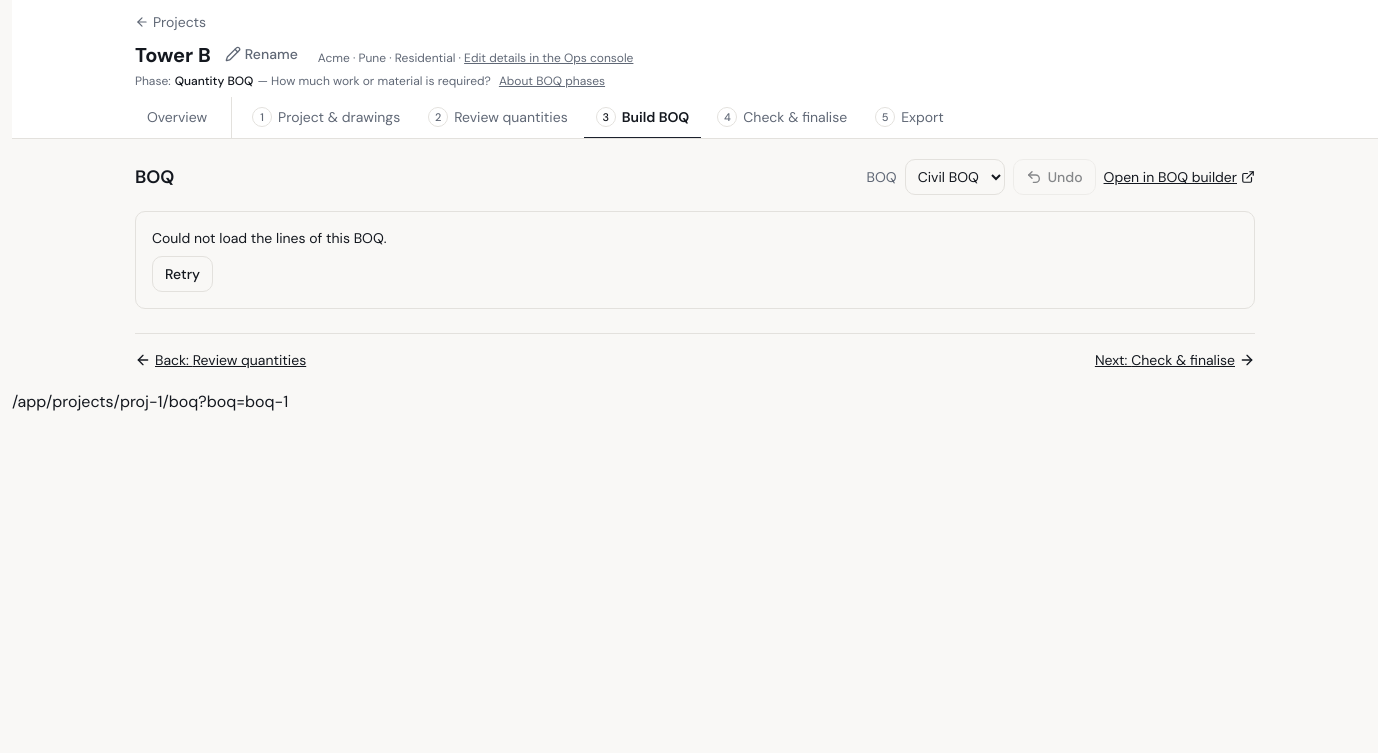
Test case: Journey — a failed read is an error with a way to recover, never a blank or a success › Build BOQ: lines read fails → error with Retry, not an empty BOQ
Check: the message shows "Could not load the lines of this BOQ.", box [152, 229, 387, 247]
Check: the text "This step is done" is not shown
Click the button "Retry" at [182, 274], box [152, 256, 213, 292]
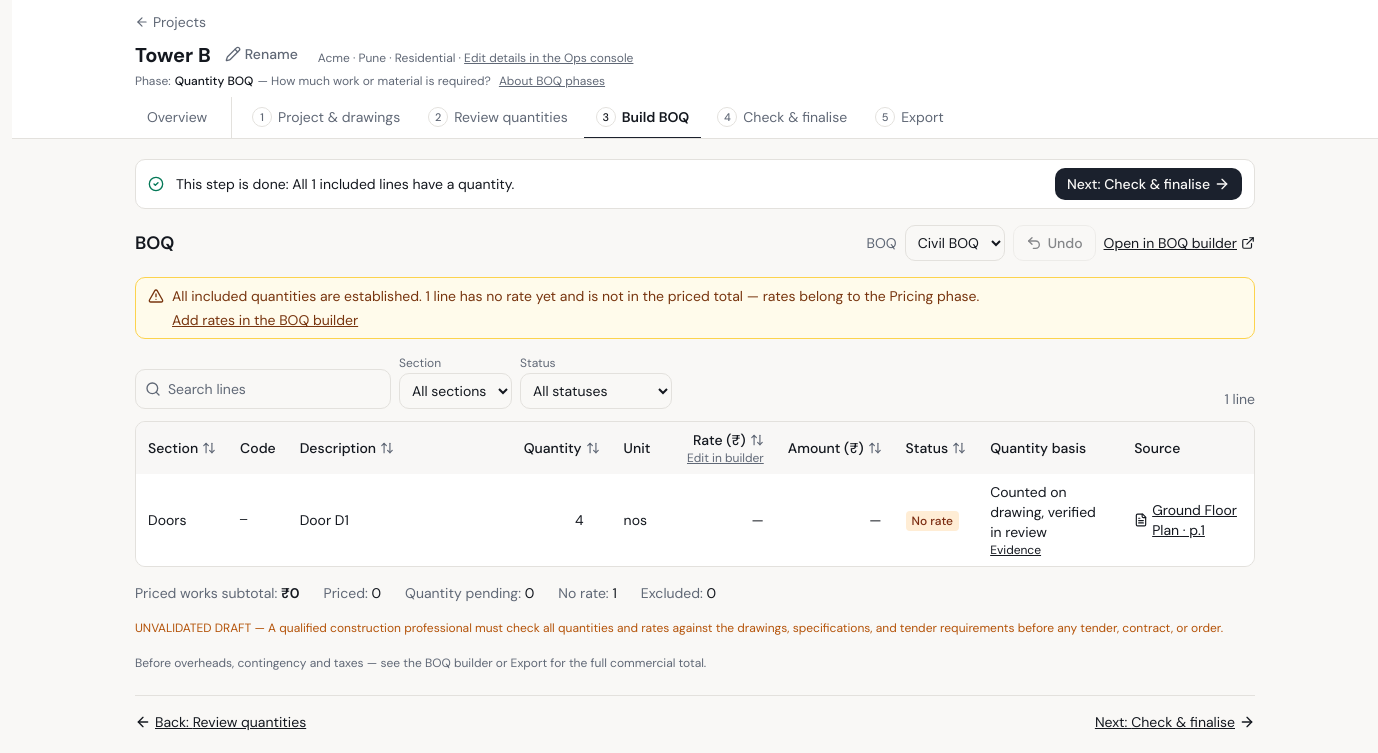
Check: the text "Door D1" is shown, box [300, 510, 349, 530]
